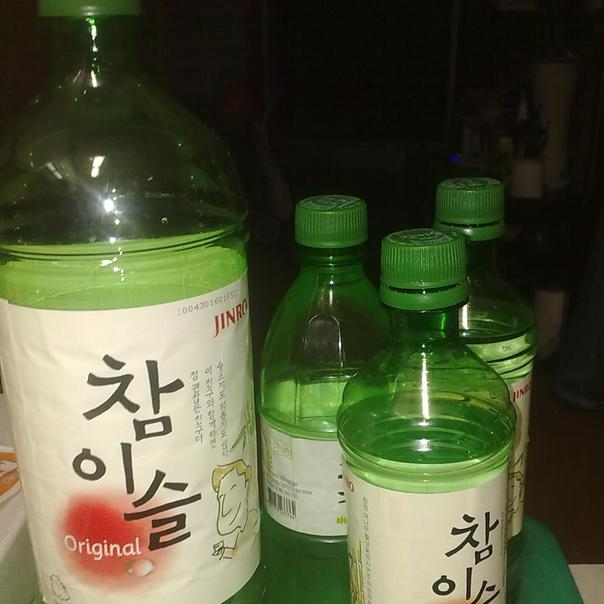soju: (3, 6, 540, 604)
